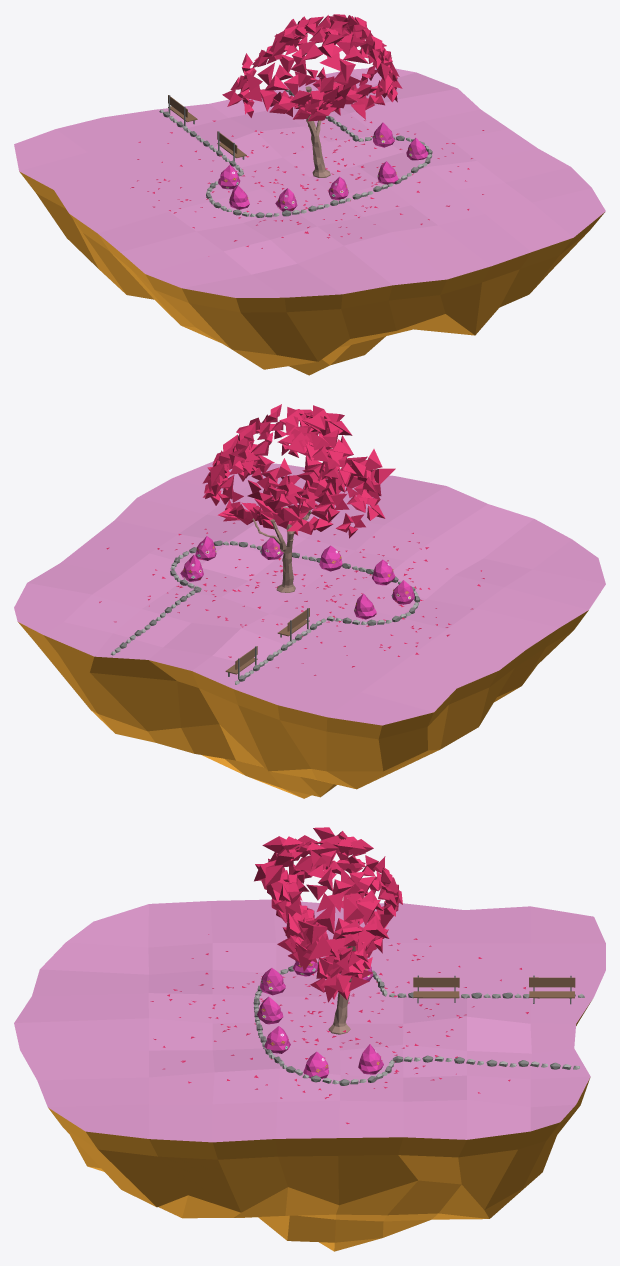
The model's file is newyear.glb.
The picture shows the model from 3 angles, top to bottom: view 1: azimuth 30°, elevation 25°; view 2: azimuth 150°, elevation 25°; view 3: azimuth 270°, elevation 25°; orthographic projection. The views are drawn at different scales.
Parts seen in each view (by area): view 1: Cliff_0, Cliff_1, Leaves on the floor.001_0, GH.Bush.007_0, Garden Stones_1, Garden Stones_0, Tree Base_0, Cube_0; view 2: Cliff_0, Cliff_1, Leaves on the floor.001_0, GH.Bush.007_0, Garden Stones_1, Garden Stones_0, Tree Base_0, Cube_0; view 3: Cliff_0, Cliff_1, Leaves on the floor.001_0, GH.Bush.007_0, Cube_0, Garden Stones_0, Garden Stones_1, Tree Base_0.
Boxes of the visible parts, <box> form: Cliff_0: <box>14,68,605,297</box>; Cliff_1: <box>19,171,604,375</box>; Leaves on the floor.001_0: <box>130,14,484,256</box>; GH.Bush.007_0: <box>218,122,428,211</box>; Garden Stones_1: <box>163,90,432,217</box>; Garden Stones_0: <box>159,87,432,217</box>; Tree Base_0: <box>297,86,333,177</box>; Cube_0: <box>168,95,246,158</box>; Cliff_0: <box>14,461,605,725</box>; Cliff_1: <box>18,610,588,798</box>; Leaves on the floor.001_0: <box>99,404,484,675</box>; GH.Bush.007_0: <box>180,536,414,619</box>; Garden Stones_1: <box>119,540,420,681</box>; Garden Stones_0: <box>110,541,418,684</box>; Tree Base_0: <box>252,507,311,592</box>; Cube_0: <box>225,608,309,674</box>; Cliff_0: <box>14,899,605,1142</box>; Cliff_1: <box>48,1001,591,1251</box>; Leaves on the floor.001_0: <box>150,827,528,1124</box>; GH.Bush.007_0: <box>257,960,383,1078</box>; Cube_0: <box>413,977,575,998</box>; Garden Stones_0: <box>253,969,584,1084</box>; Garden Stones_1: <box>253,962,575,1085</box>; Tree Base_0: <box>328,937,355,1034</box>.
Size of the model in its own units: 20.63 by 16.55 by 21.13.
